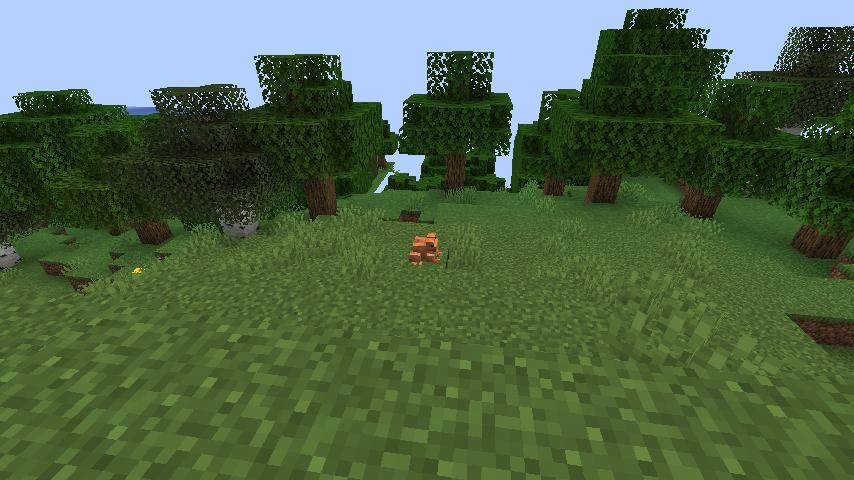frog: (406, 227, 445, 269)
